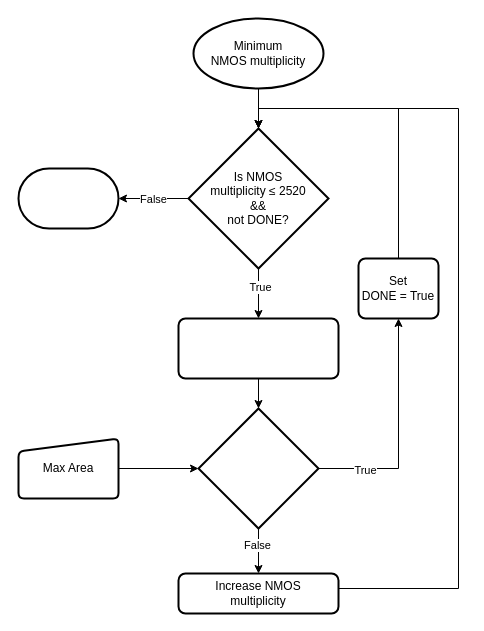
Image size: 484x631. Some labels were removed from this diagram. Here are the shapes that lost their labels. From the top down, the centre of each, then its label:
At (68,198): "Max multiplicity".
At (258,348): "Search for matching PMOS resistance and estimate area".
At (258,468): "Is area ≥ Max area?".
